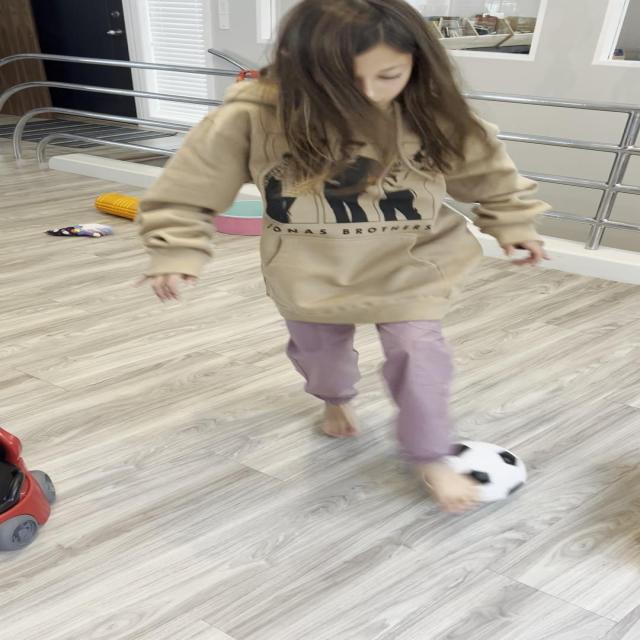Soccer Ball: (420, 441, 526, 502)
